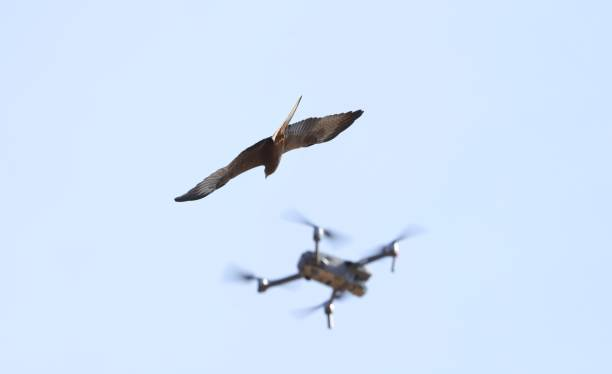Bird: (170, 90, 364, 203)
Drone: (223, 207, 429, 335)
